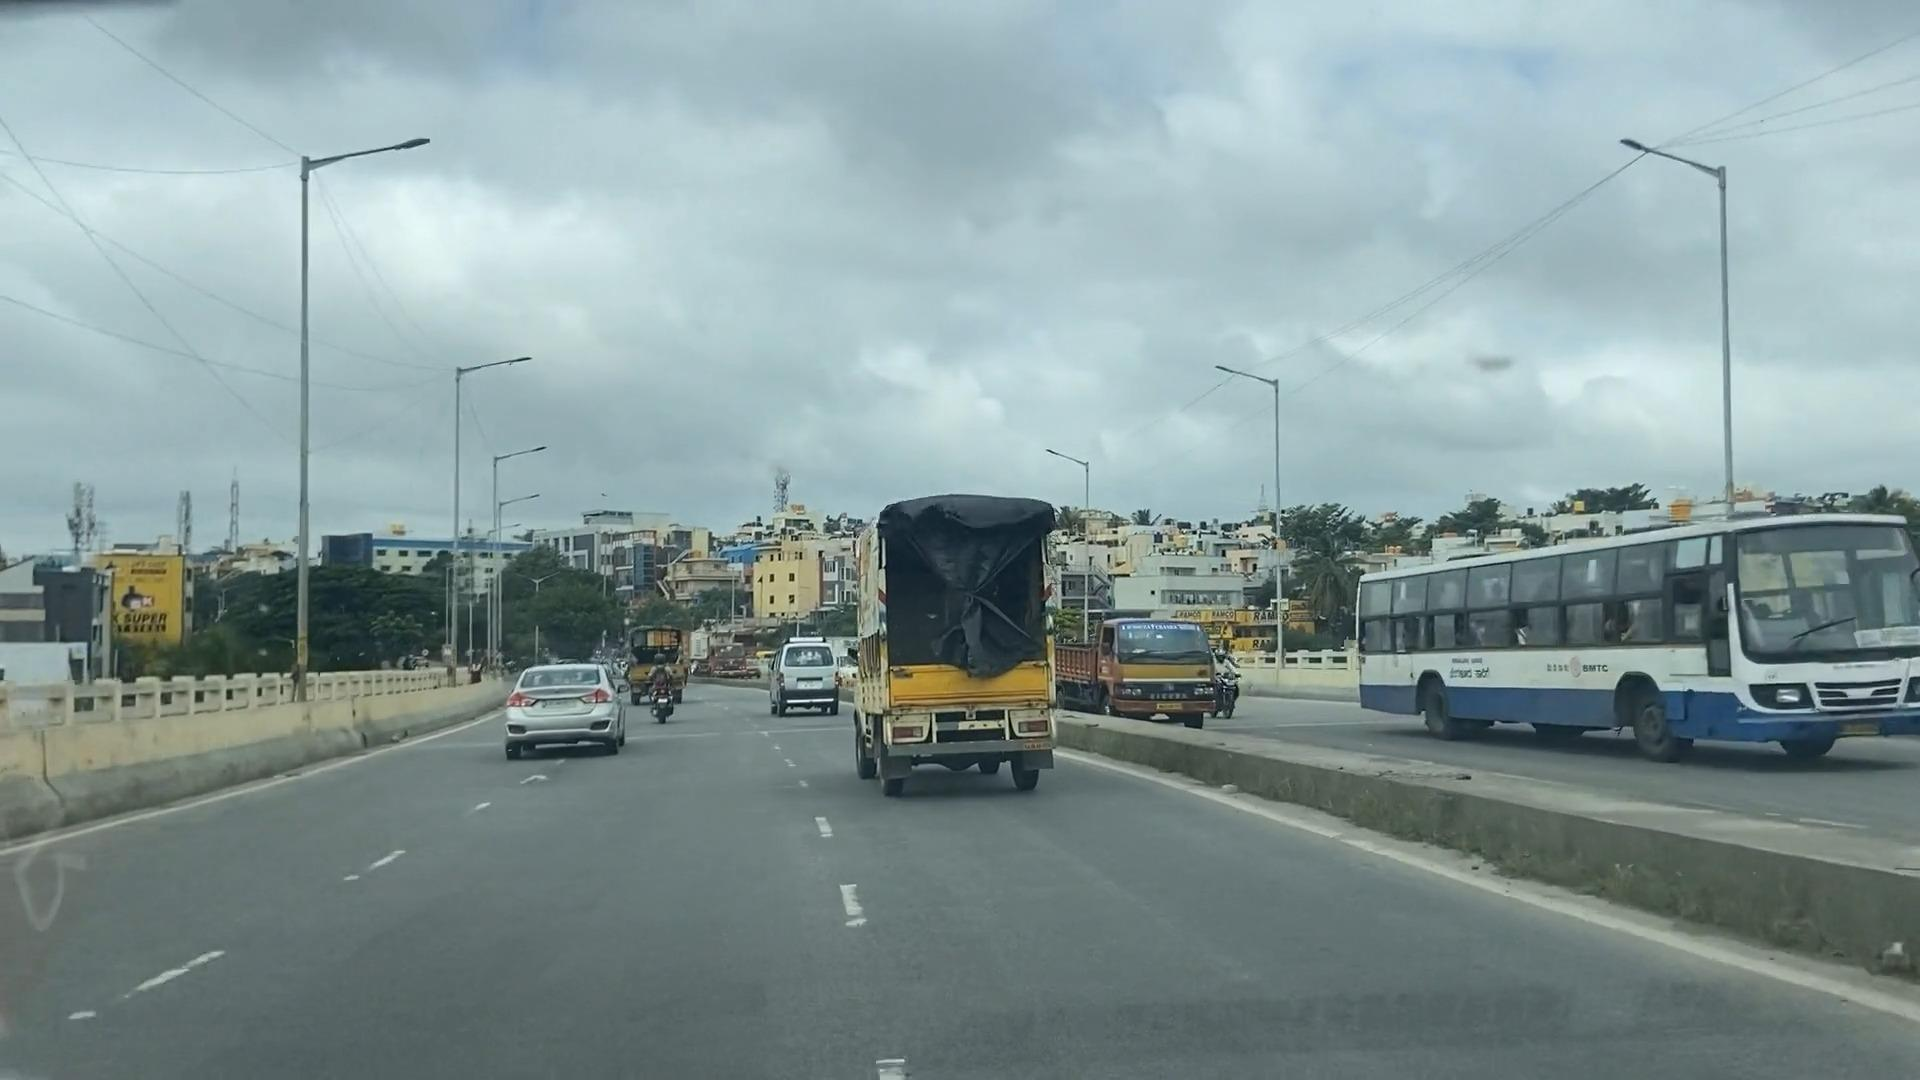HMV: (1335, 509, 1920, 781), (845, 495, 1083, 803), (1055, 605, 1249, 735)
